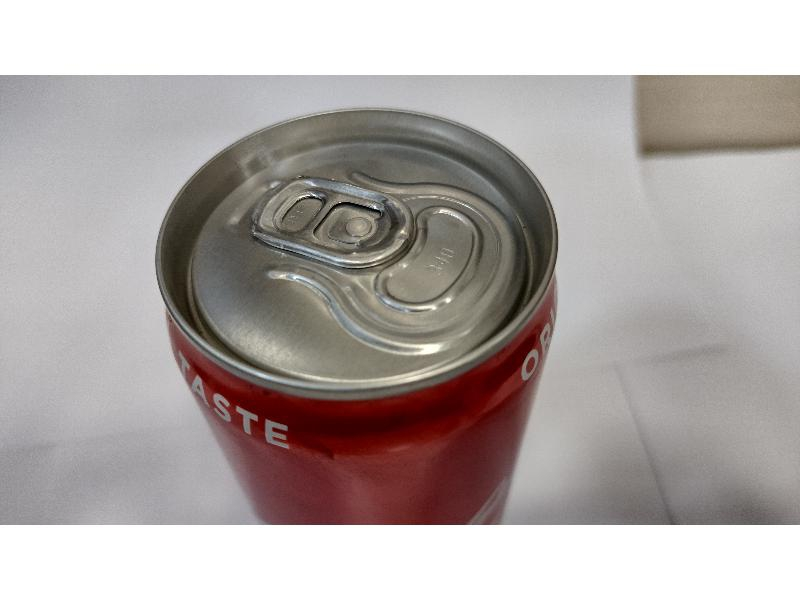can: (151, 97, 568, 517)
